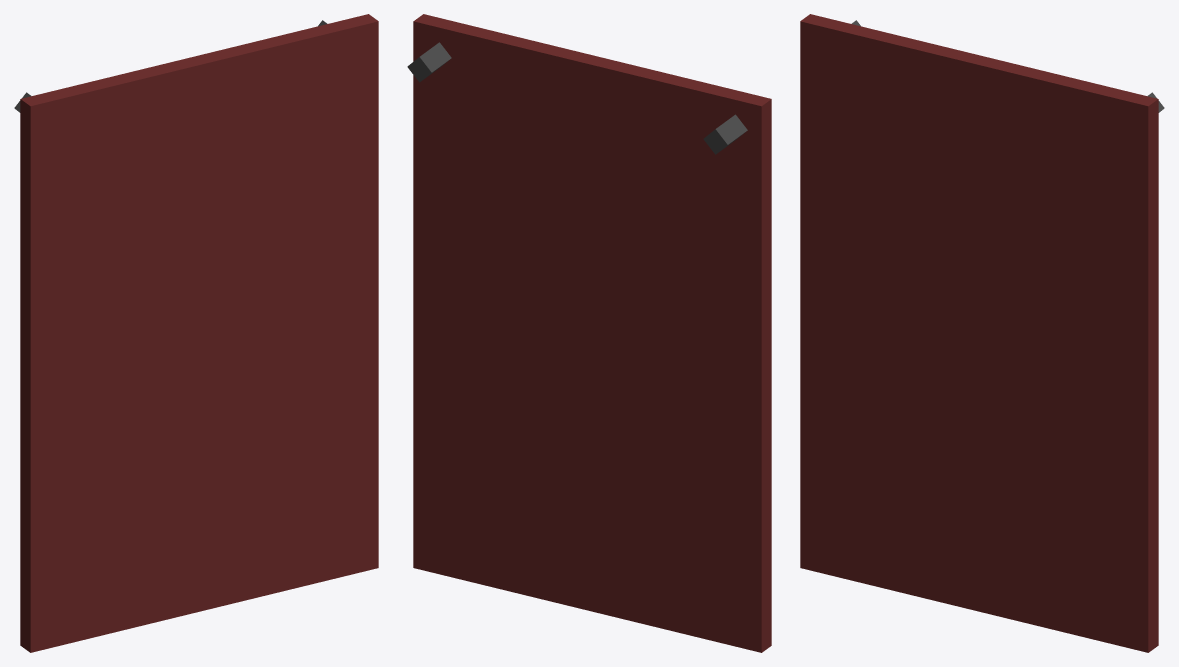
The model's file is banner_wall_square.fbx.
3 views of the same model, side by side, from view 1: azimuth 30°, elevation 25°; view 2: azimuth 150°, elevation 25°; view 3: azimuth 330°, elevation 25° (orthographic).
Parts seen in each view (by area): view 1: banner.wall.square; view 2: banner.wall.square; view 3: banner.wall.square.
Boxes of the visible parts, x1,y1,x2,y2 form: banner.wall.square: (14, 14, 378, 652); banner.wall.square: (407, 14, 771, 652); banner.wall.square: (800, 14, 1164, 652).
Size of the model in its own units: 200 by 300 by 30.
